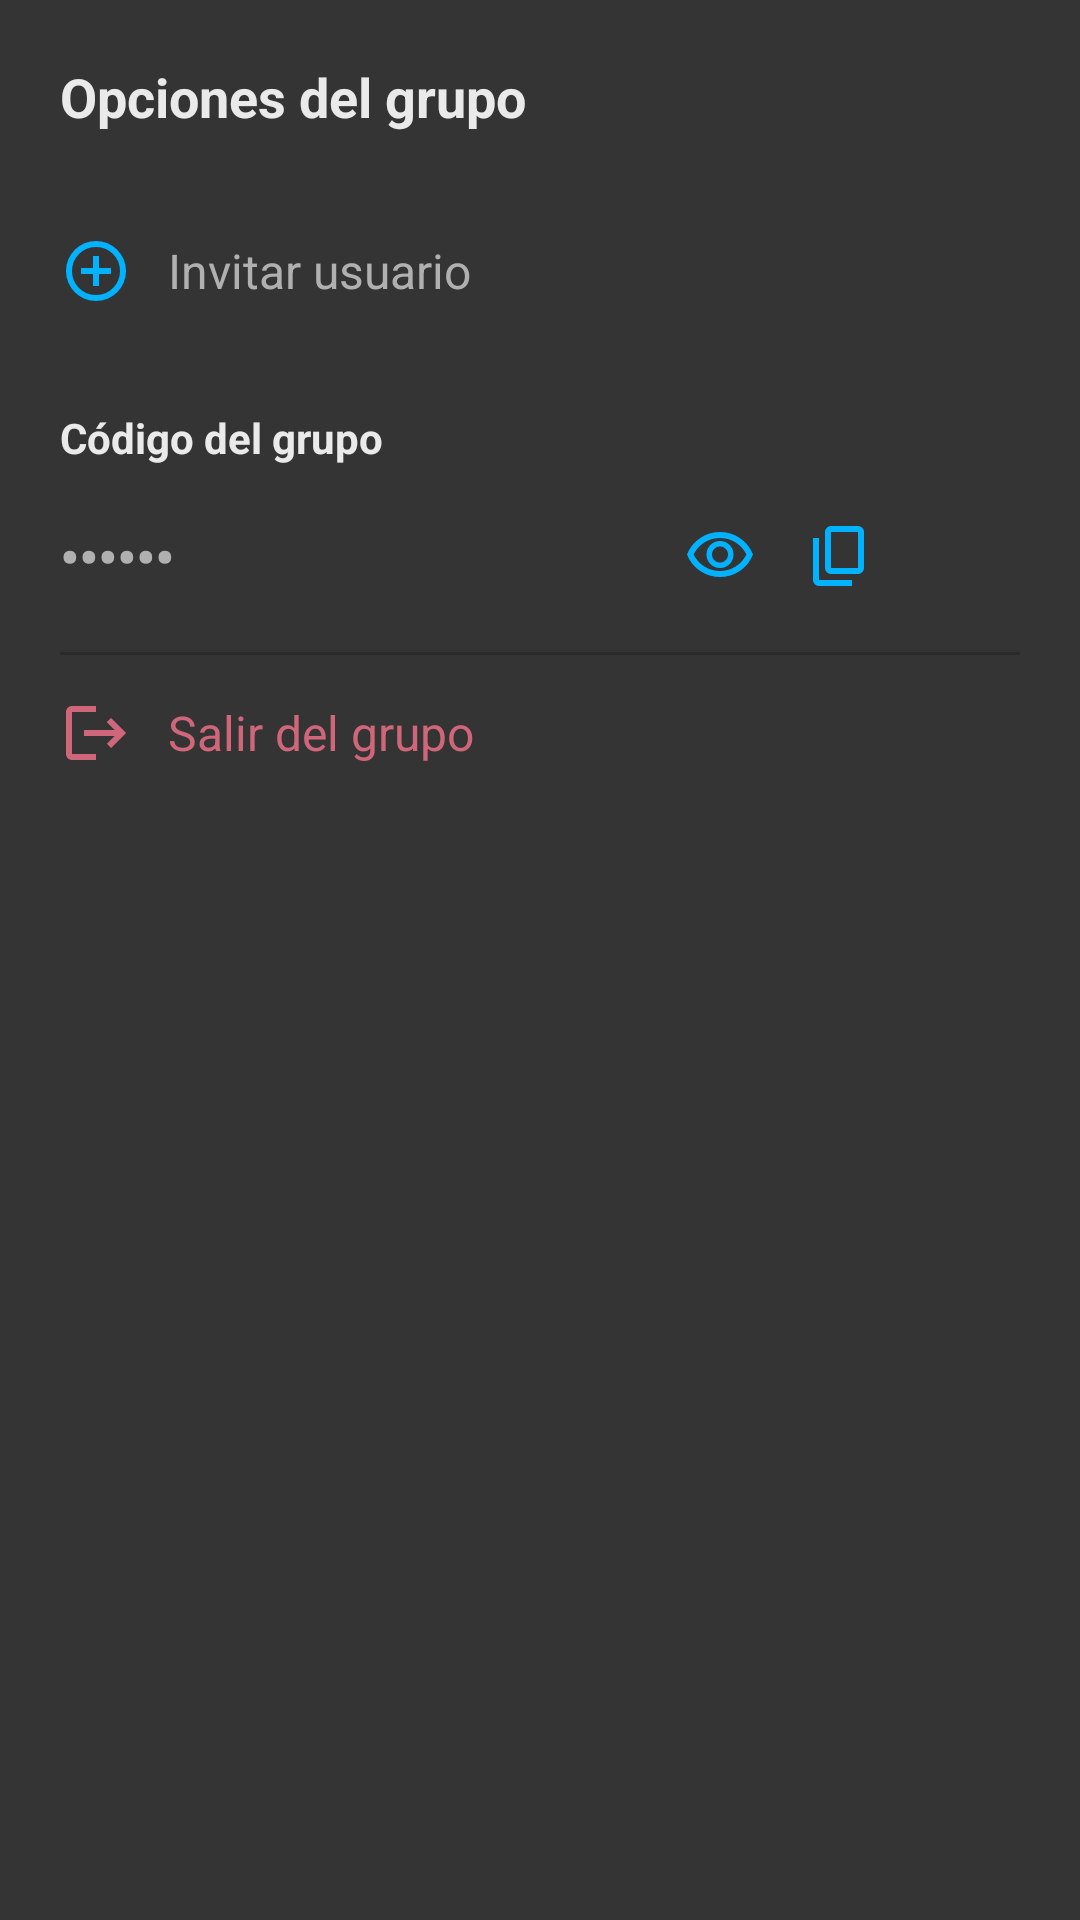

Icon bounding boxes for this 1080 × 1920 phone screenshot, format bbox=[x1, y1, x2, y2]:
add: bbox=[66, 241, 126, 301]
visibility: bbox=[687, 532, 753, 577]
